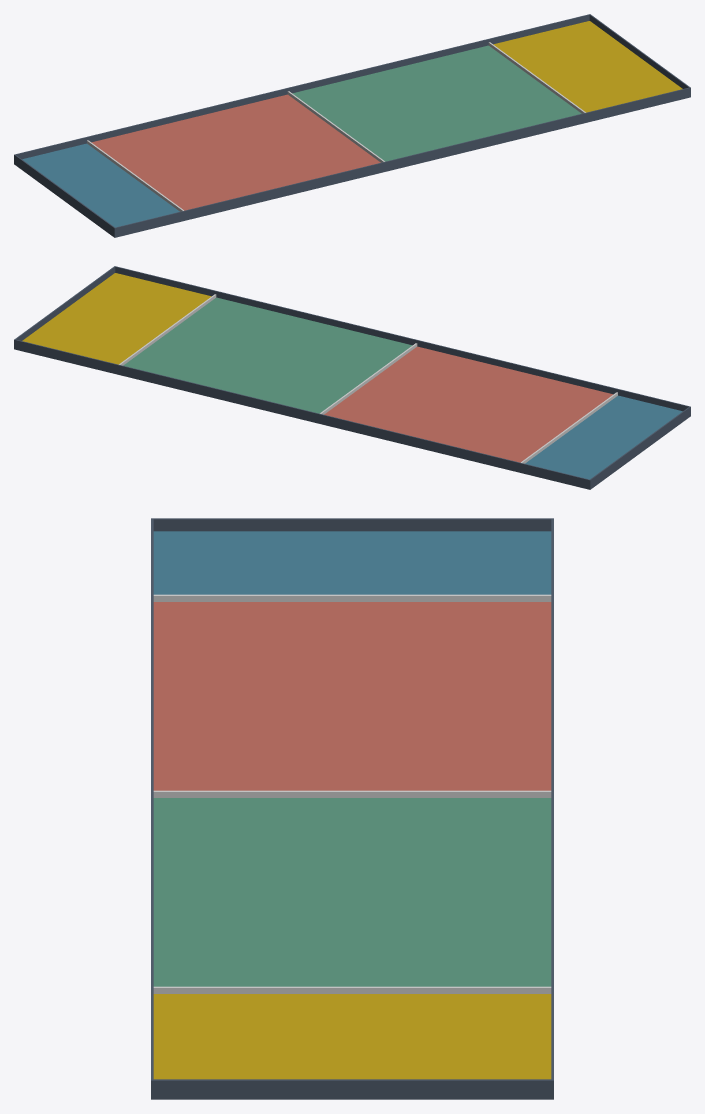
The model's file is parcel.glb.
The picture shows the model from 3 angles, top to bottom: view 1: azimuth 30°, elevation 25°; view 2: azimuth 150°, elevation 25°; view 3: azimuth 270°, elevation 25°; orthographic projection. The views are drawn at different scales.
Visible parts, largest first — view 1: الابن الأول, الابن الثاني, world, البنت, الزوجة; view 2: الابن الأول, الابن الثاني, world, البنت, الزوجة; view 3: الابن الأول, الابن الثاني, البنت, world, الزوجة.
Boxes of the visible parts, box(x1,y1,x2,y2) form: الابن الأول: box(91, 94, 380, 210); الابن الثاني: box(292, 45, 581, 161); world: box(14, 14, 690, 237); البنت: box(493, 21, 682, 112); الزوجة: box(22, 143, 179, 227); الابن الأول: box(324, 346, 613, 462); الابن الثاني: box(123, 297, 412, 413); world: box(14, 266, 690, 489); البنت: box(22, 273, 211, 364); الزوجة: box(525, 395, 682, 479); الابن الأول: box(153, 602, 551, 790); الابن الثاني: box(153, 798, 551, 986); البنت: box(153, 994, 551, 1079); world: box(151, 518, 553, 1099); الزوجة: box(153, 531, 551, 594).
Bounding box in the file's own units: 1 × 0.016 × 0.304.
